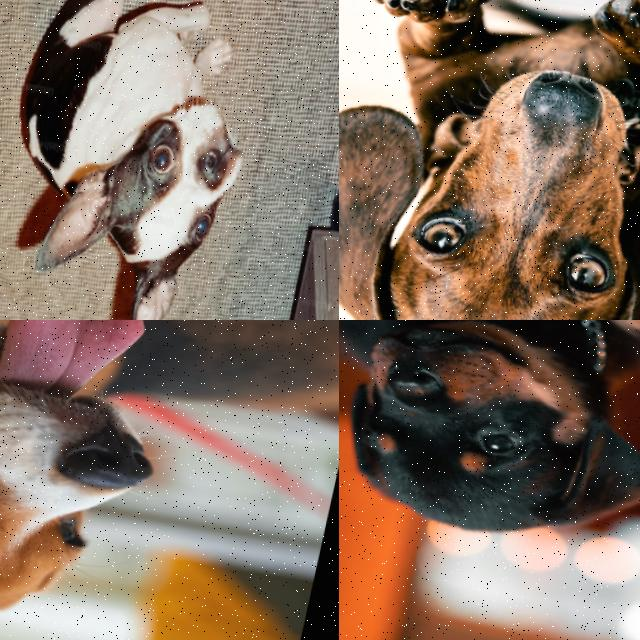beagle: (339, 4, 640, 320), (0, 320, 222, 640)
rottweiler: (339, 320, 640, 598)
